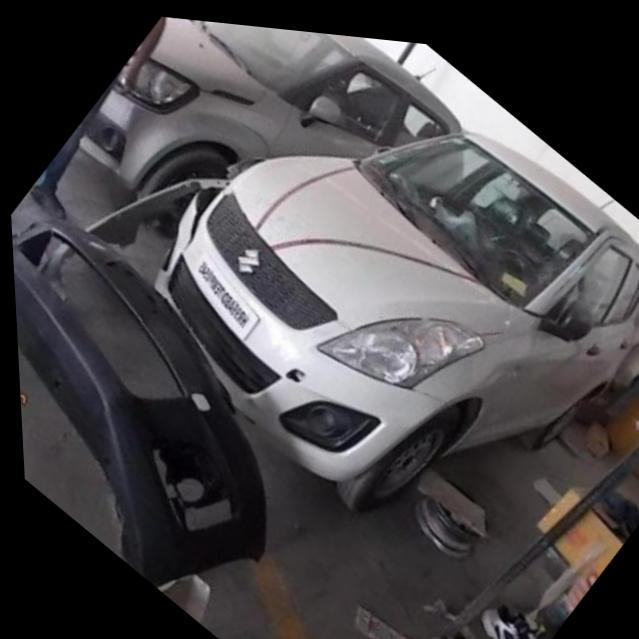lamp broken: (182, 149, 264, 248)
